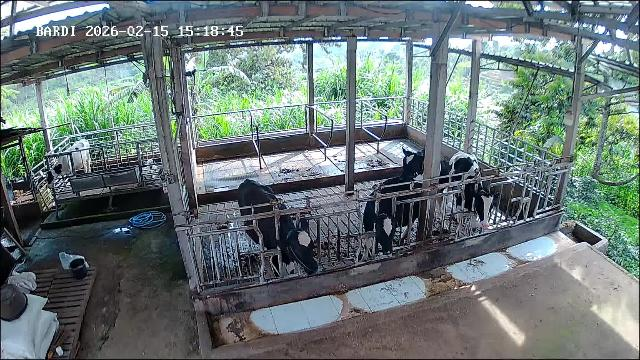mounting: (396, 145, 448, 228)
